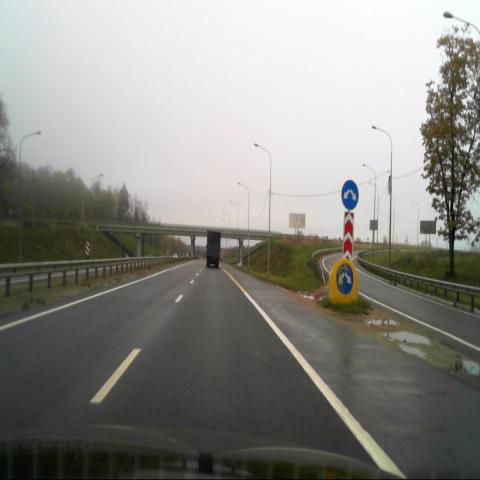4_2_3: (337, 265, 353, 294)
